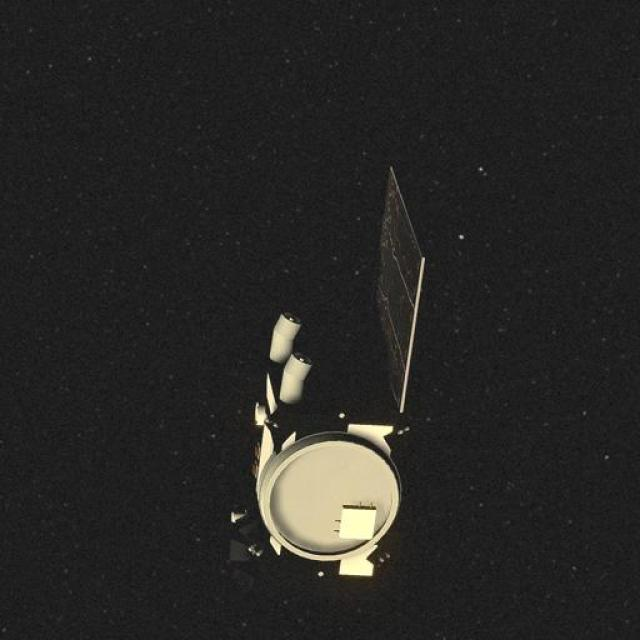proba_3_csc: (208, 158, 454, 594)
